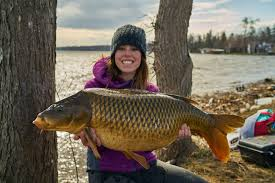carp: (31, 86, 246, 172)
